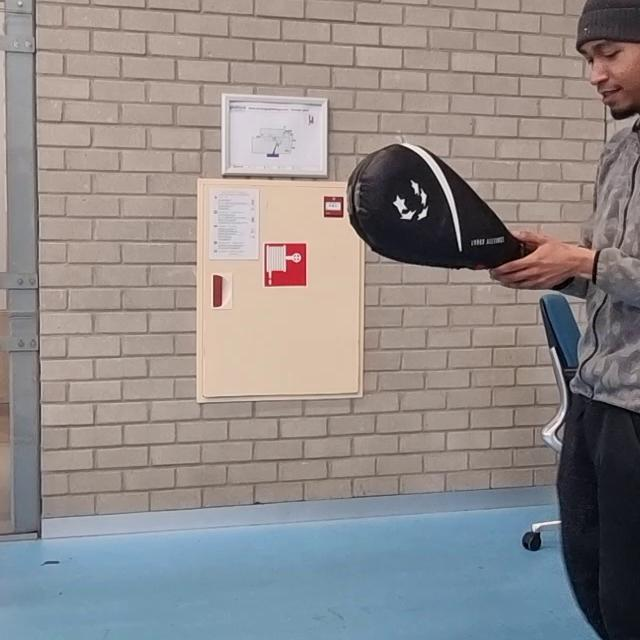paddle: (346, 143, 528, 268)
